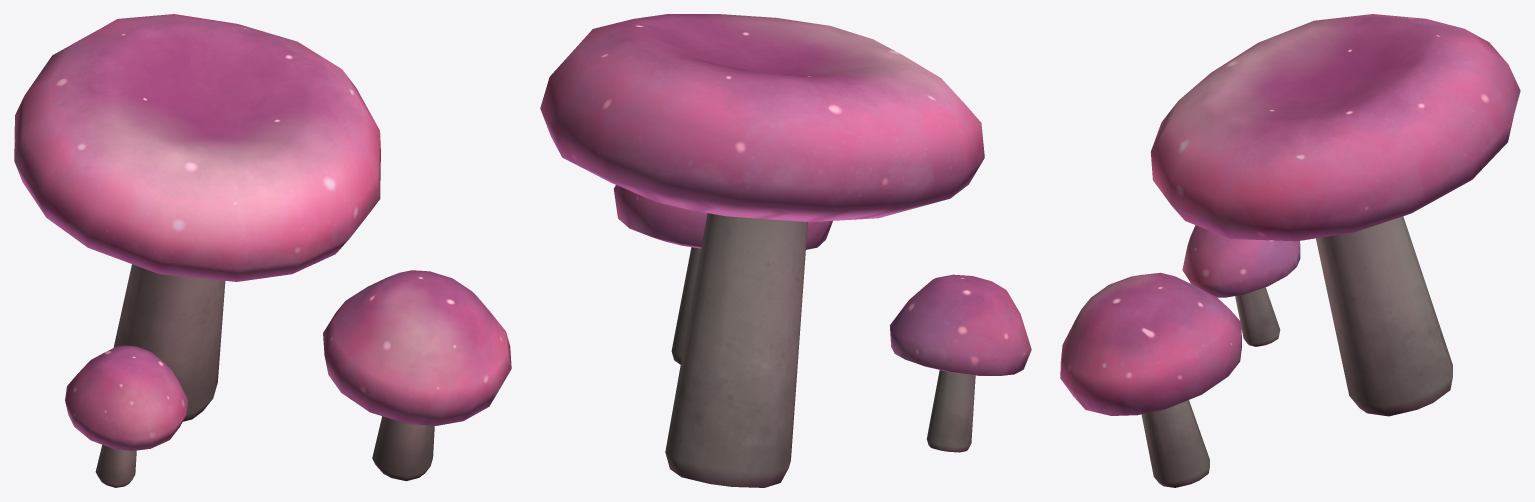
The model's file is VV_Seer_Hut_Mushroom_03.gltf.
3 views of the same model, side by side, from view 1: azimuth 30°, elevation 25°; view 2: azimuth 150°, elevation 25°; view 3: azimuth 270°, elevation 25° (orthographic). The views are drawn at different scales.
Visible parts, largest first — view 1: VV_Seer_Hut_Mushroom_03(Clone); view 2: VV_Seer_Hut_Mushroom_03(Clone); view 3: VV_Seer_Hut_Mushroom_03(Clone).
Boxes of the visible parts, bbox=[...] form: VV_Seer_Hut_Mushroom_03(Clone): bbox=[14, 14, 511, 487]; VV_Seer_Hut_Mushroom_03(Clone): bbox=[540, 14, 1031, 487]; VV_Seer_Hut_Mushroom_03(Clone): bbox=[1060, 14, 1520, 487].
Bounding box in the file's own units: 0.6694 × 0.6376 × 0.7091.
Materials: 2 (2 with a texture image).
